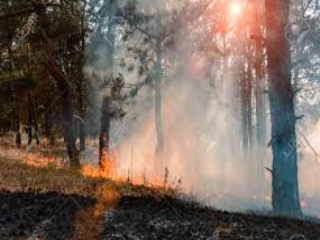fire: (77, 150, 146, 190)
smoke: (144, 81, 247, 194)
